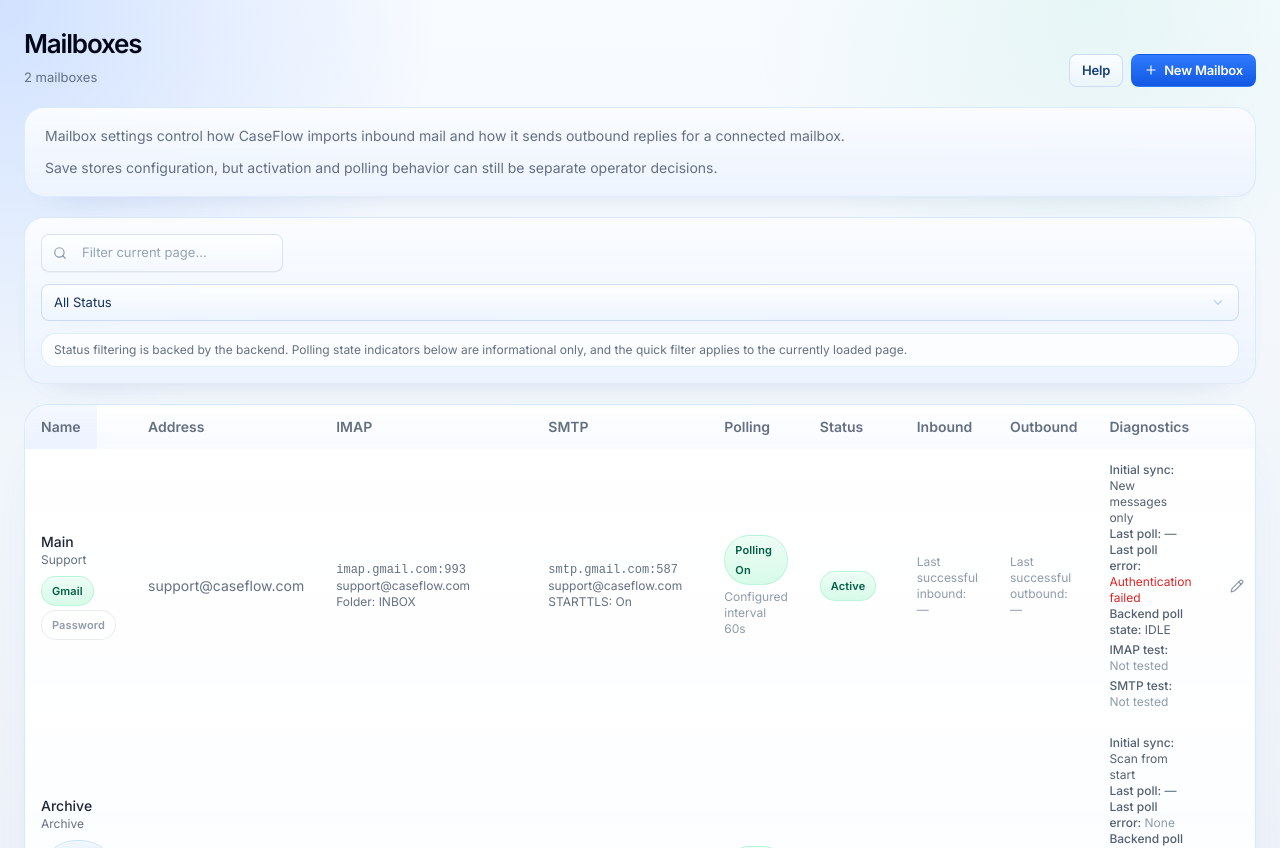
MailboxManagementPage › switches to Outlook OAuth2 fields and hides the IMAP password input
The image size is (1280, 848).
Click the button "New Mailbox": (1194,70) top-left (1131, 54), bottom-right (1256, 87)
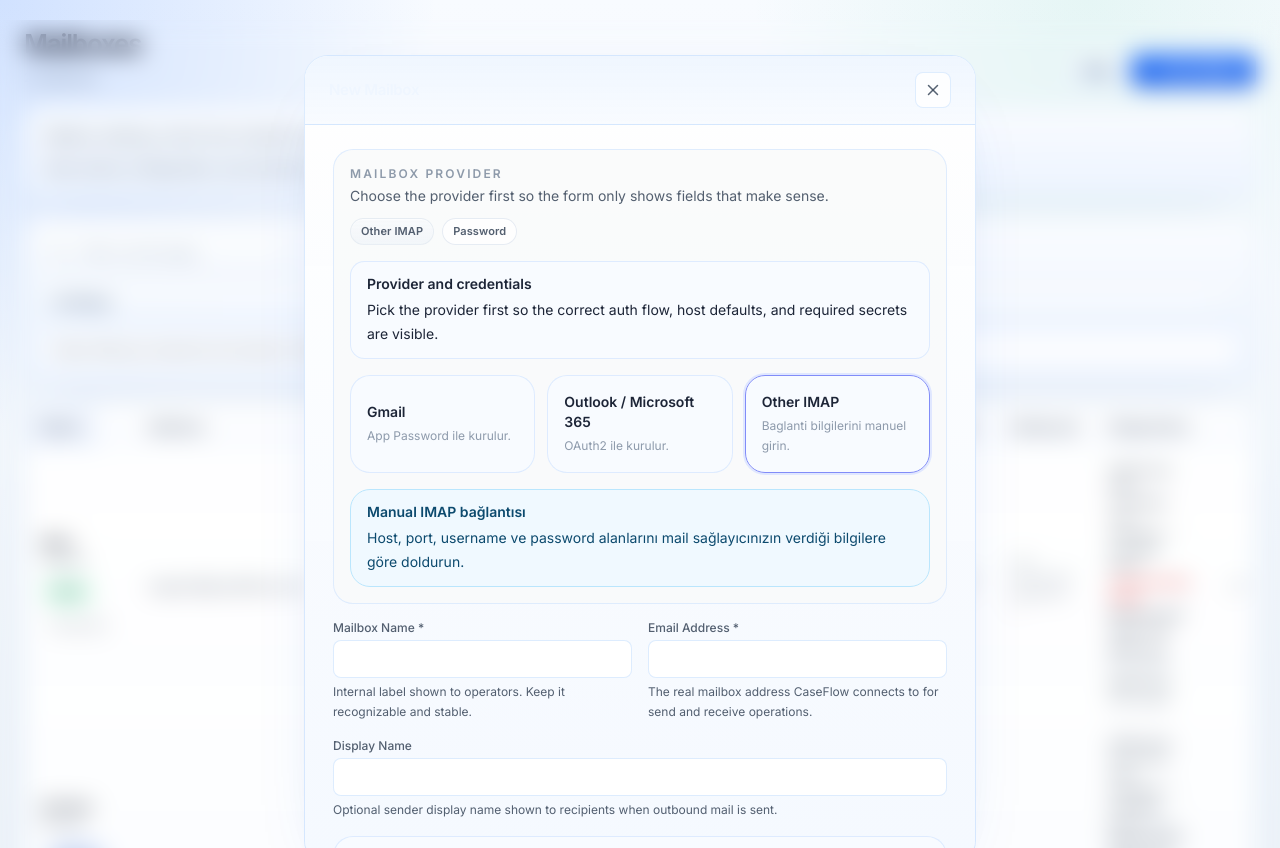
Click the button "Outlook / Microsoft 365": (640,424) top-left (547, 374), bottom-right (733, 472)
(page scrolled)
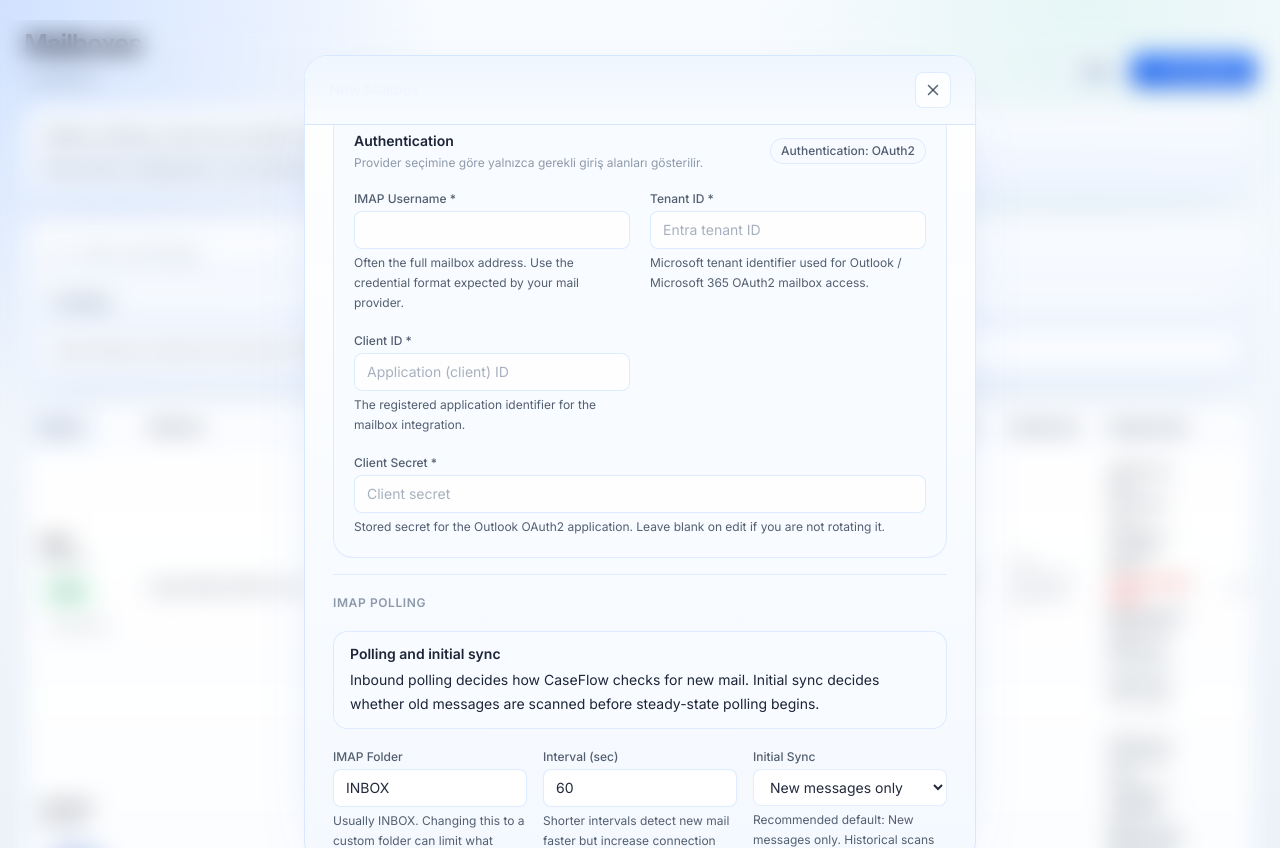
Check: the field named "Tenant ID *" is shown, box top-left (650, 211), bottom-right (926, 249)
Check: the field named "Client ID *" is shown, box top-left (354, 353), bottom-right (630, 391)
Check: the password field named "Client Secret *" is shown, box top-left (354, 475), bottom-right (926, 513)
